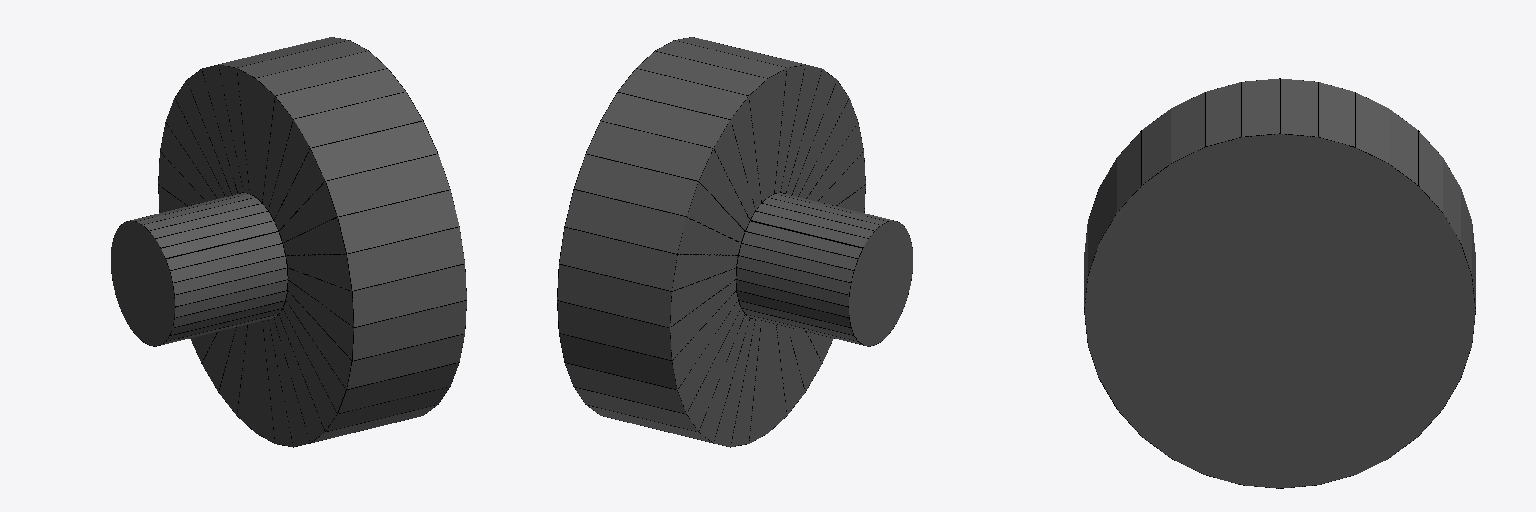
3 renders of one model, left to right at view 1: azimuth 30°, elevation 25°; view 2: azimuth 150°, elevation 25°; view 3: azimuth 270°, elevation 25°, orthographic.
Parts seen in each view (by area): view 1: small_wheel_Cylinder; view 2: small_wheel_Cylinder; view 3: small_wheel_Cylinder.
Part boxes in pixels (bbox=[...]): small_wheel_Cylinder: bbox=[111, 37, 466, 447]; small_wheel_Cylinder: bbox=[557, 37, 912, 447]; small_wheel_Cylinder: bbox=[1084, 78, 1475, 488].
Size of the model in its own units: 4 by 6 by 6.
Materials: 1 (1 with a texture image).